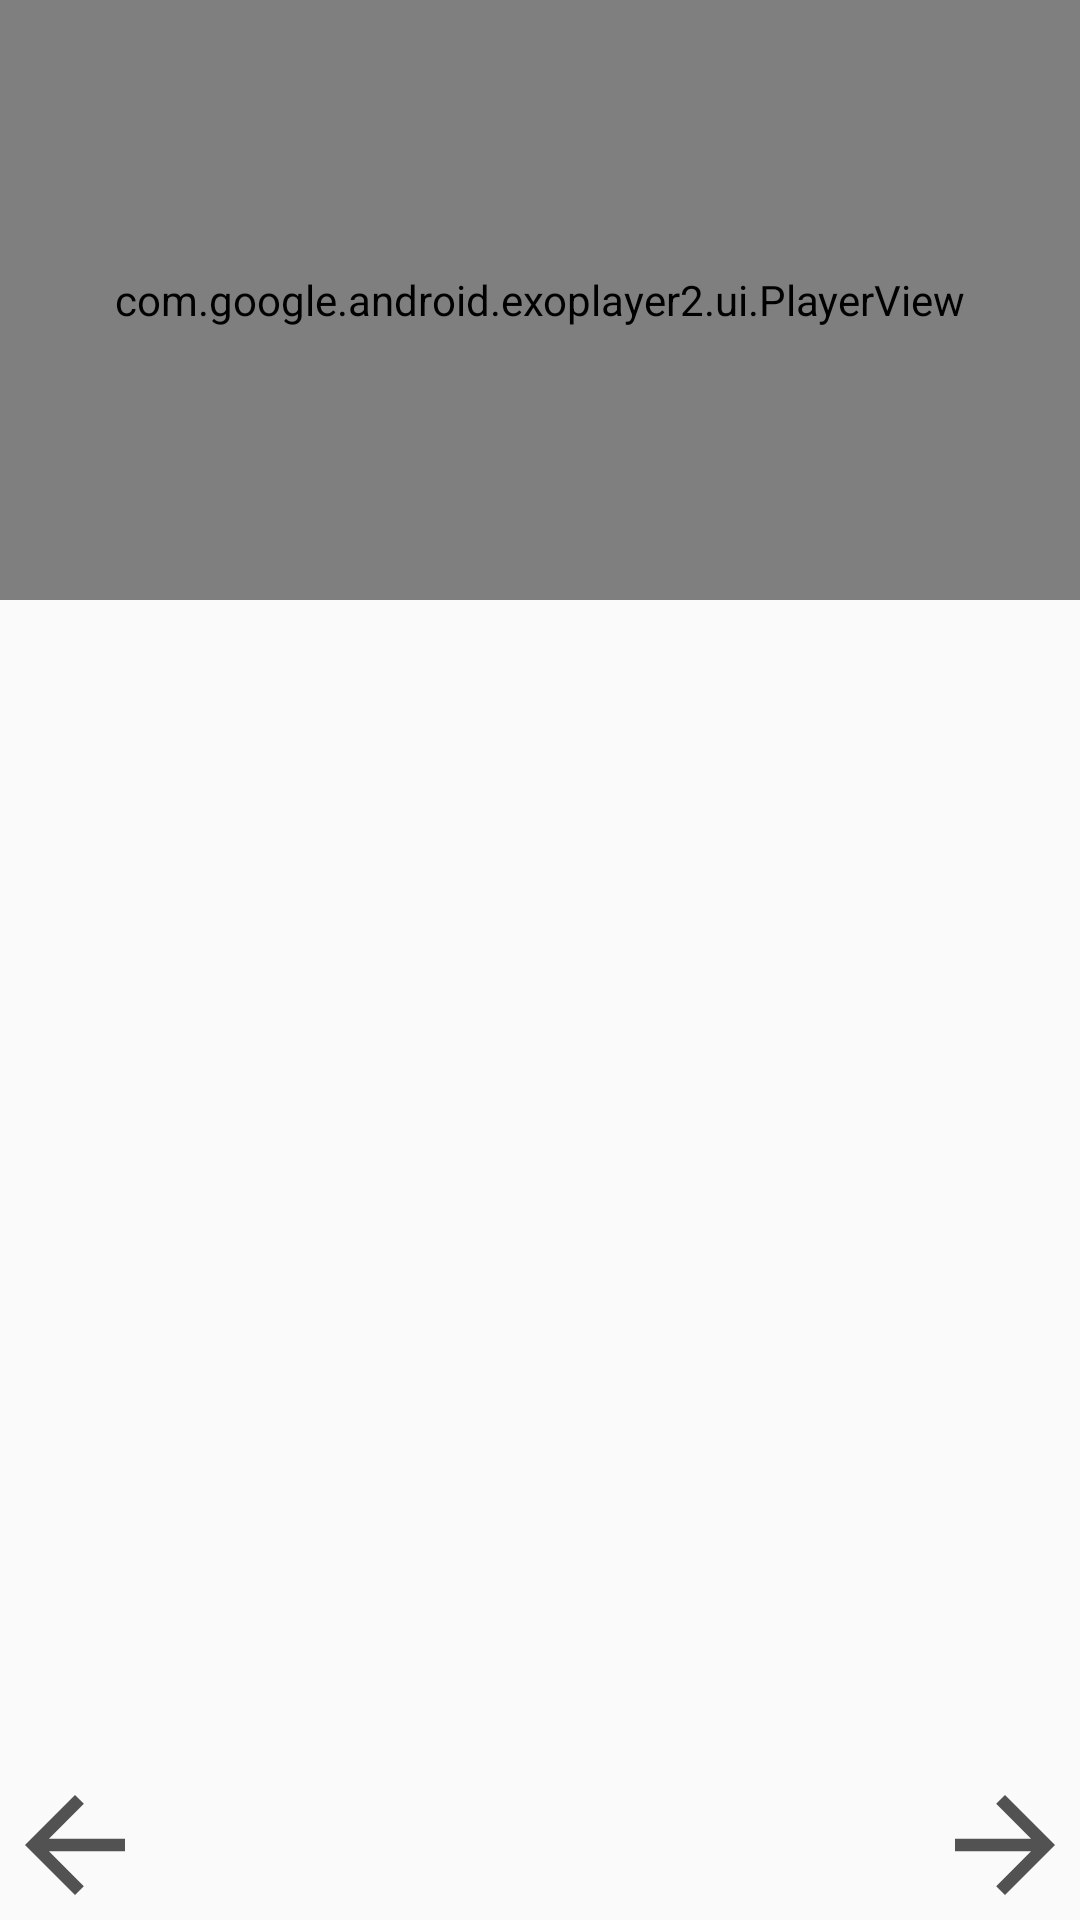

Where icons sit on this 1080 x 1920 app screen, as [left=x1, top=y1, right=x2, bottom=y2]:
Next step: [left=955, top=1795, right=1055, bottom=1895]
Previous step: [left=25, top=1795, right=125, bottom=1895]
